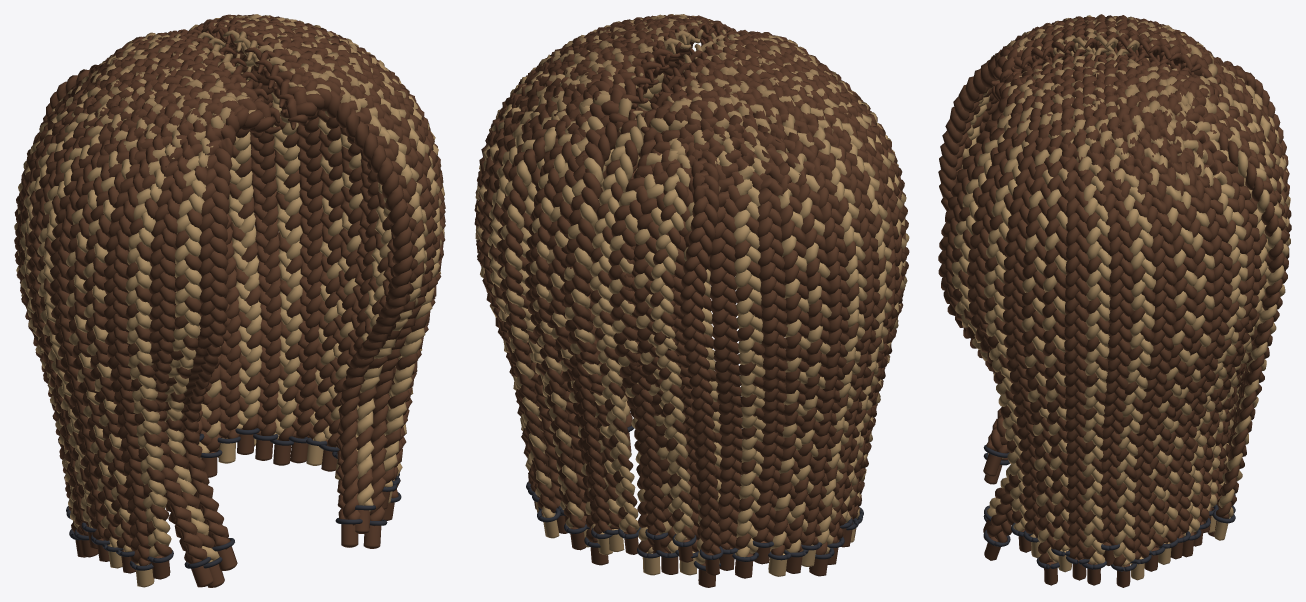
File: Highlights-5b8fd8b78645251-hair.glb
3 renders of one model, left to right at view 1: azimuth 30°, elevation 25°; view 2: azimuth 150°, elevation 25°; view 3: azimuth 270°, elevation 25°, orthographic. The views are drawn at different scales.
Visible parts, largest first — view 1: 226 hair / Hair / chestnut226, 226 hair / Hair / ties226; view 2: 226 hair / Hair / chestnut226, 226 hair / Hair / ties226; view 3: 226 hair / Hair / chestnut226, 226 hair / Hair / ties226.
Part boxes in pixels (<box>): 226 hair / Hair / chestnut226: <box>14,14,445,587</box>; 226 hair / Hair / ties226: <box>66,428,401,570</box>; 226 hair / Hair / chestnut226: <box>474,14,909,587</box>; 226 hair / Hair / ties226: <box>526,425,863,570</box>; 226 hair / Hair / chestnut226: <box>938,14,1291,587</box>; 226 hair / Hair / ties226: <box>983,445,1235,571</box>.
Size of the model in its own units: 1.07 by 1.31 by 0.8719.
